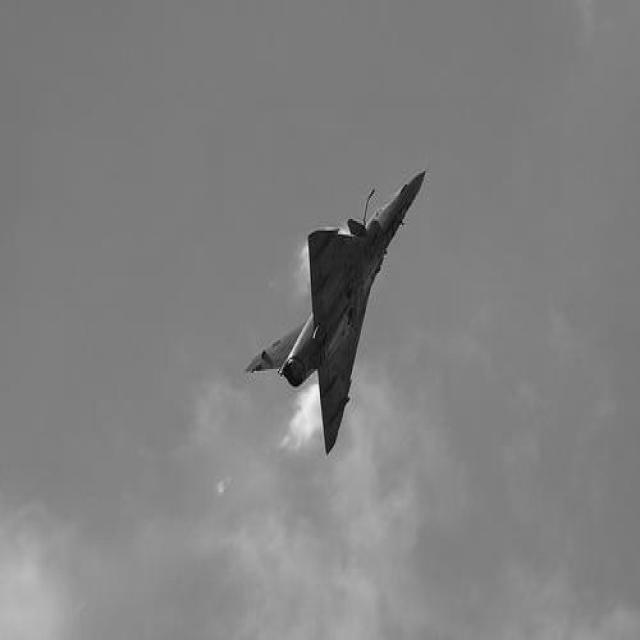aeroplane: (238, 158, 430, 452)
